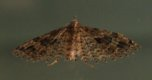Alucitidae: (12, 15, 143, 69)
moth: (10, 13, 141, 67)
